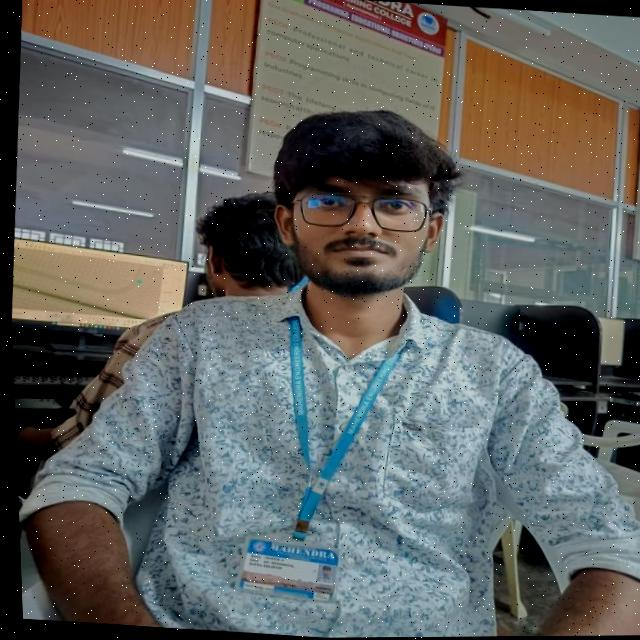id_card: (213, 313, 432, 615)
